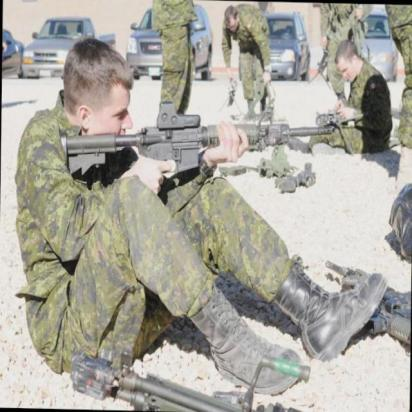Gun: (62, 108, 333, 178)
